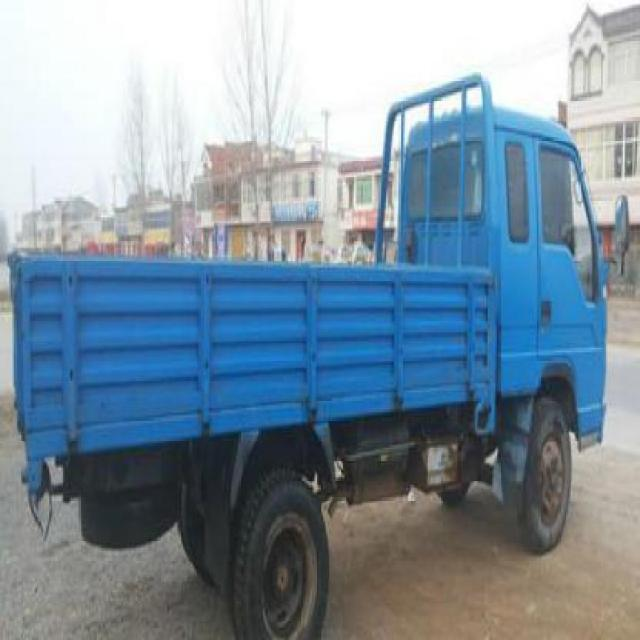Dump Truck: (14, 73, 612, 638)
